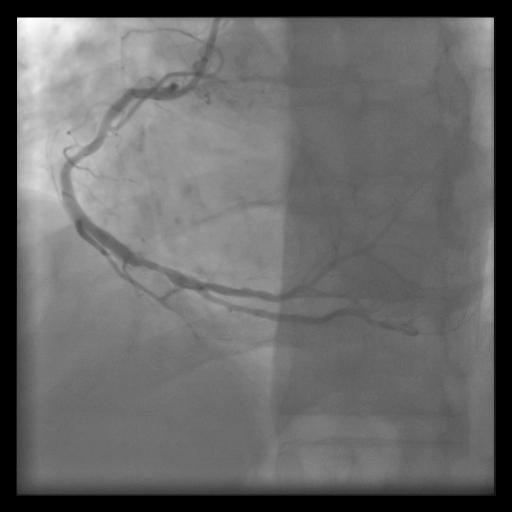Stenosis: (133, 248, 171, 285)
